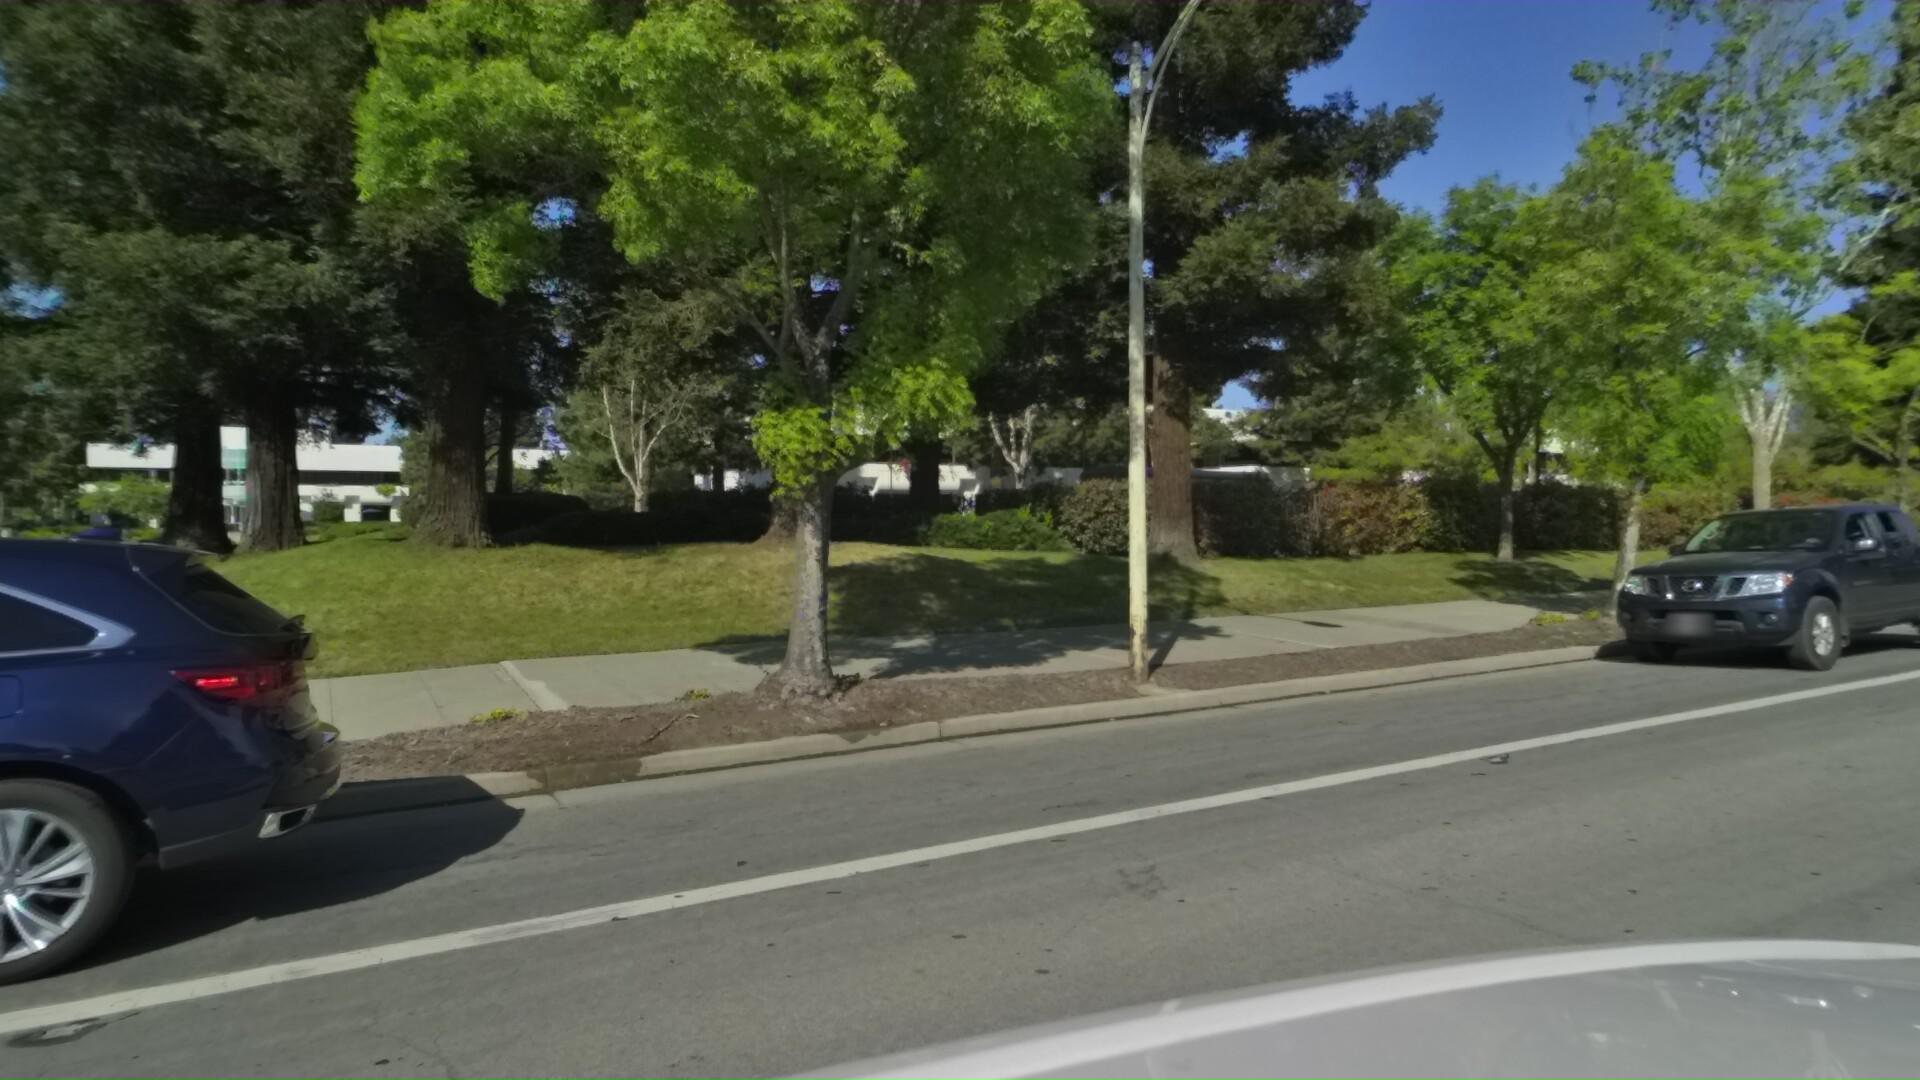car: (0, 475, 305, 1080), (1577, 485, 1920, 676)
